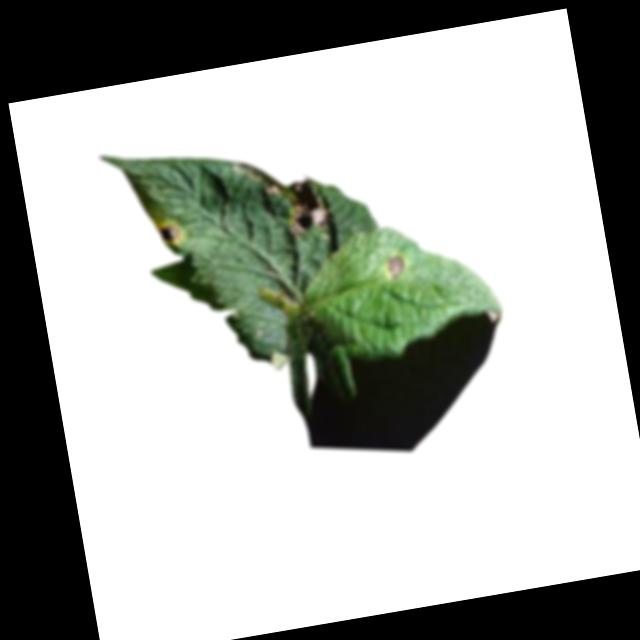Early_blight: (264, 172, 331, 241), (154, 217, 184, 247), (386, 253, 406, 280)
